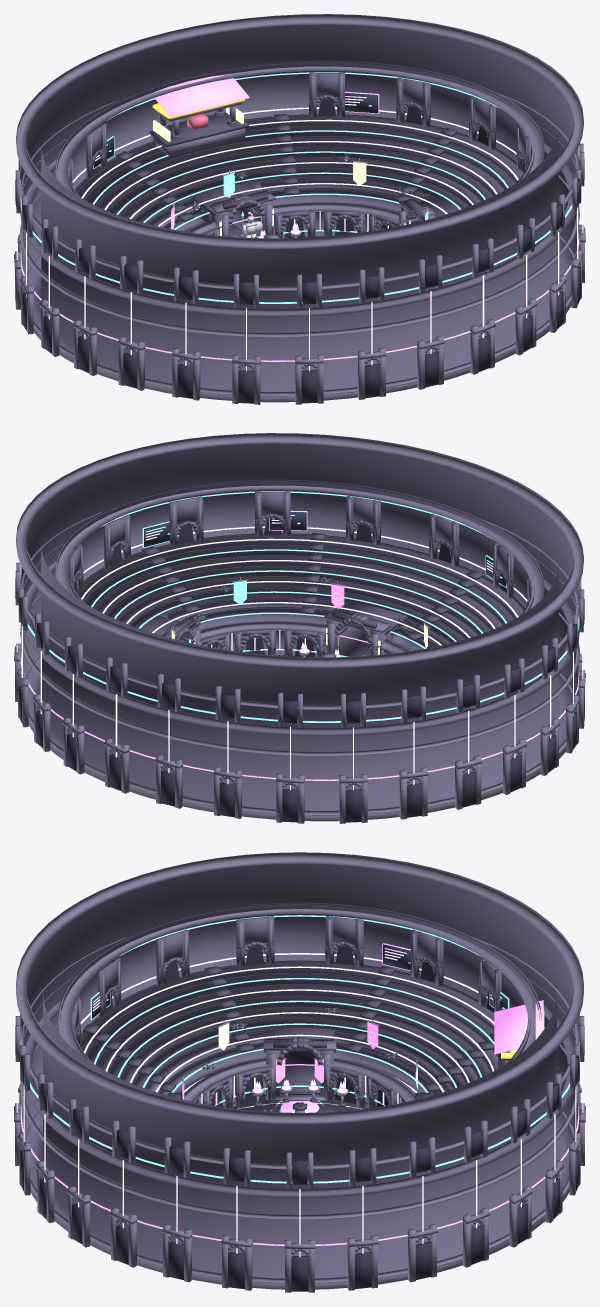
Rendered from colosseum_neon_arena.glb.
The picture shows the model from 3 angles, top to bottom: view 1: azimuth 30°, elevation 25°; view 2: azimuth 150°, elevation 25°; view 3: azimuth 270°, elevation 25°; orthographic projection. The views are drawn at different scales.
Parts seen in each view (by area): view 1: Stone, StoneLight, StoneShadow, StoneDark, NeonPurple, NeonCyan, BannerRed, NeonMagenta, ScreenDark, BannerGold; view 2: Stone, StoneLight, StoneShadow, StoneDark, NeonPurple, NeonCyan, ScreenDark, NeonMagenta; view 3: Stone, StoneLight, StoneShadow, StoneDark, NeonPurple, NeonCyan, BannerRed, ScreenDark, NeonMagenta, Sand.
Part boxes in pixels (x1,y1,x2,y2): Stone: (20, 24, 578, 402); StoneLight: (14, 14, 585, 404); StoneShadow: (15, 99, 584, 403); StoneDark: (72, 100, 527, 237); NeonPurple: (16, 98, 583, 371); NeonCyan: (20, 72, 576, 303); BannerRed: (153, 74, 249, 229); NeonMagenta: (20, 91, 579, 361); ScreenDark: (94, 93, 411, 237); BannerGold: (153, 107, 366, 235); Stone: (21, 443, 579, 821); StoneLight: (14, 433, 585, 823); StoneShadow: (15, 519, 584, 822); StoneDark: (72, 519, 527, 656); NeonPurple: (16, 517, 583, 790); NeonCyan: (23, 491, 579, 722); ScreenDark: (144, 512, 505, 655); NeonMagenta: (20, 510, 579, 780); Stone: (21, 864, 578, 1289); StoneLight: (14, 852, 585, 1292); StoneShadow: (15, 946, 584, 1291); StoneDark: (78, 945, 503, 1111); NeonPurple: (16, 951, 583, 1257); NeonCyan: (24, 915, 575, 1183); BannerRed: (182, 1000, 543, 1112); ScreenDark: (92, 944, 507, 1110); NeonMagenta: (21, 943, 578, 1245); Sand: (234, 1100, 365, 1112).
Size of the model in its own units: 55.74 by 17.66 by 50.54.
